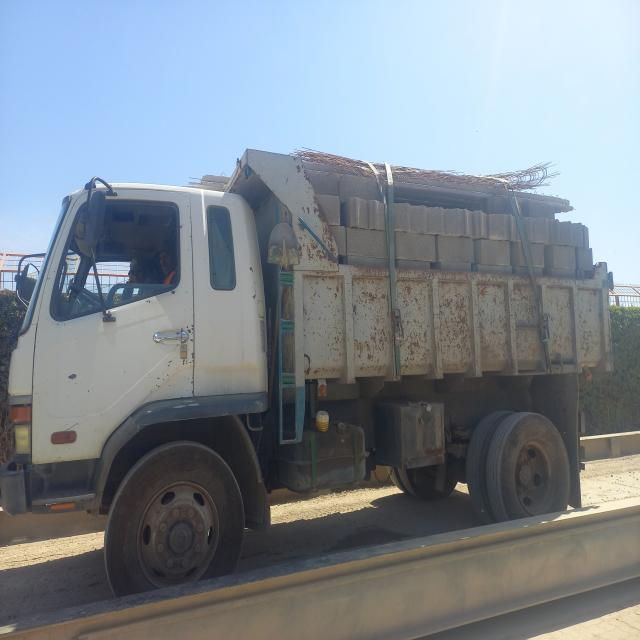bricks: (395, 206, 529, 275), (306, 170, 388, 266), (525, 218, 594, 278)
